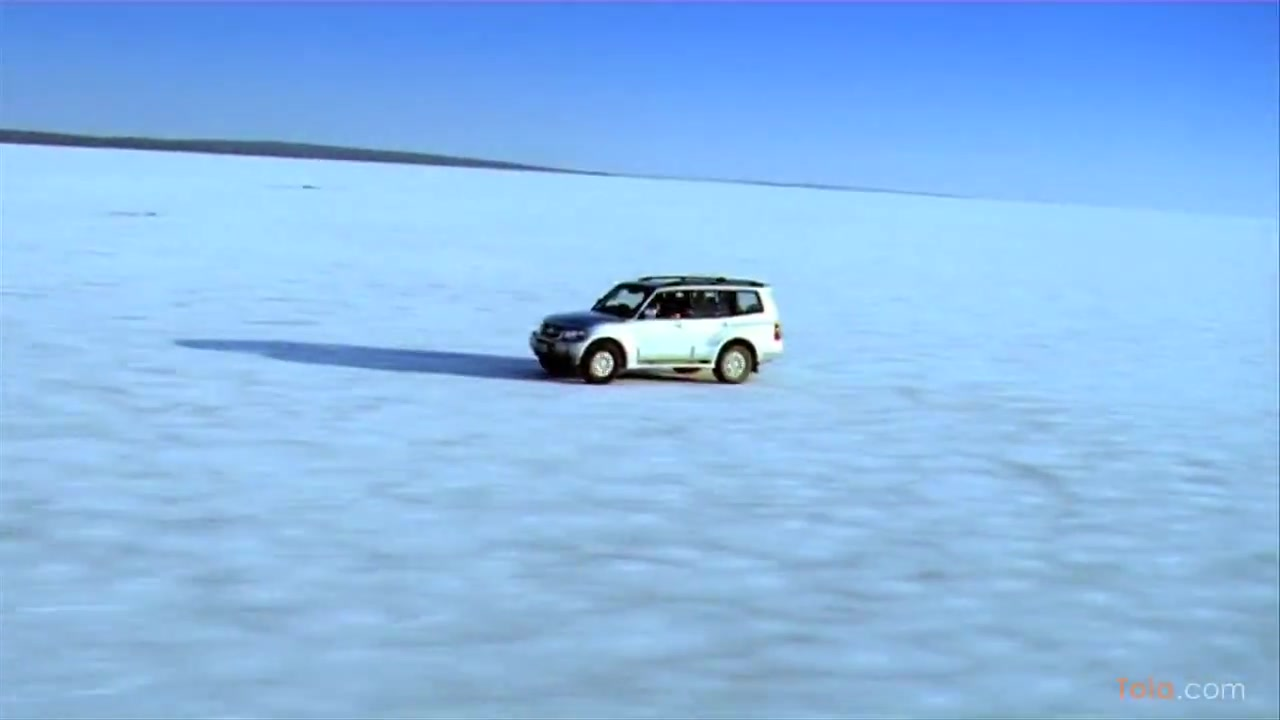car: (530, 274, 788, 389)
